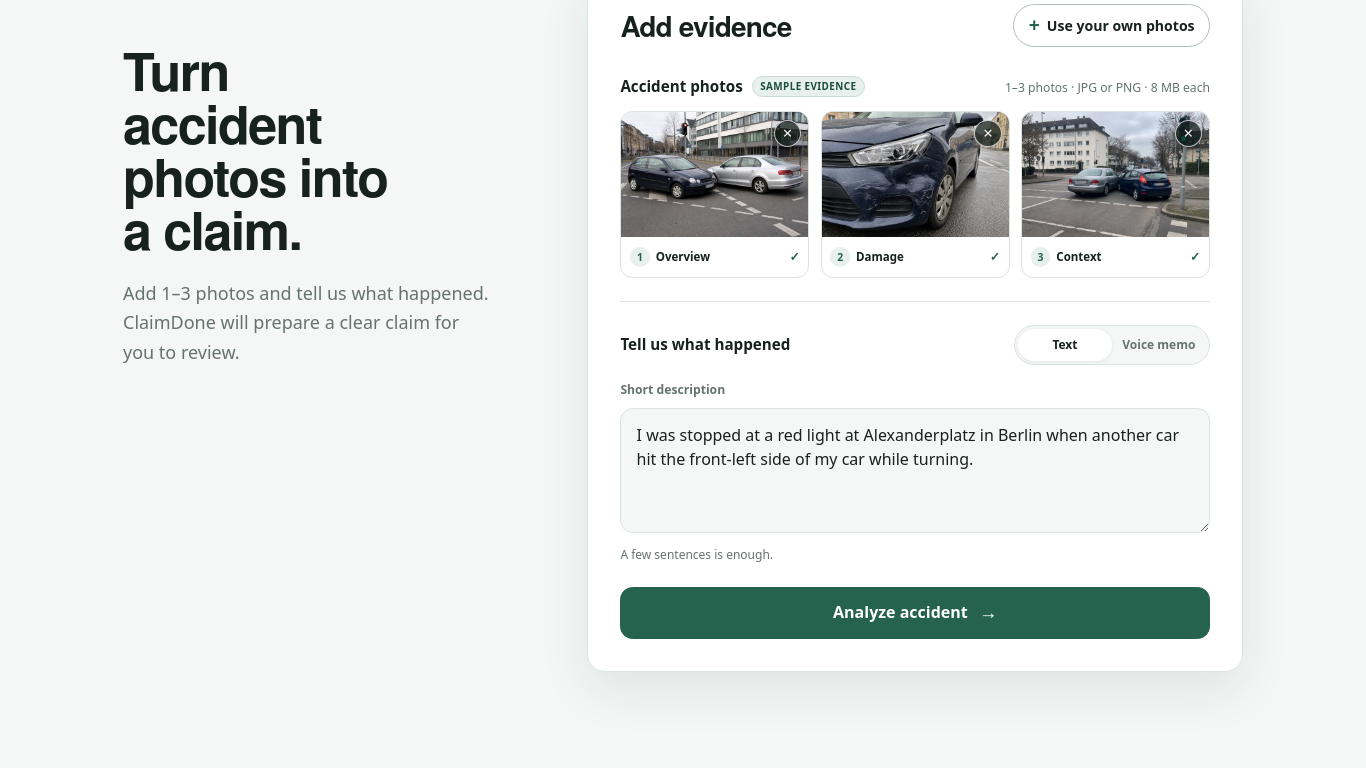
Test: ClaimExperience › shows the analyzing state while the mock result is pending
This screenshot has width=1366, height=768.
(page scrolled)
Click the button "Analyze accident →": coordinates (915, 612) [620, 586, 1210, 638]
(page scrolled)
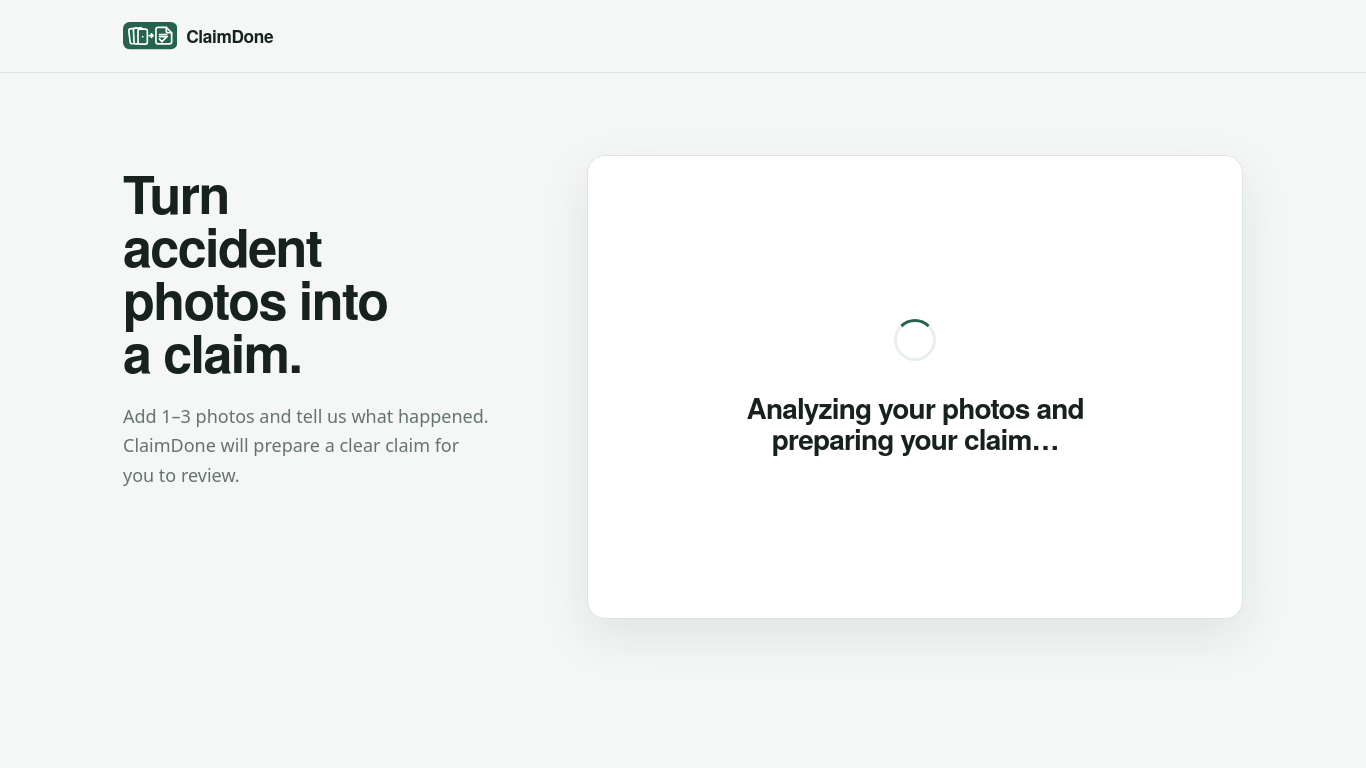
Now the heading "Analyzing your photos and preparing your claim…" is shown, box [746, 387, 1084, 459]
